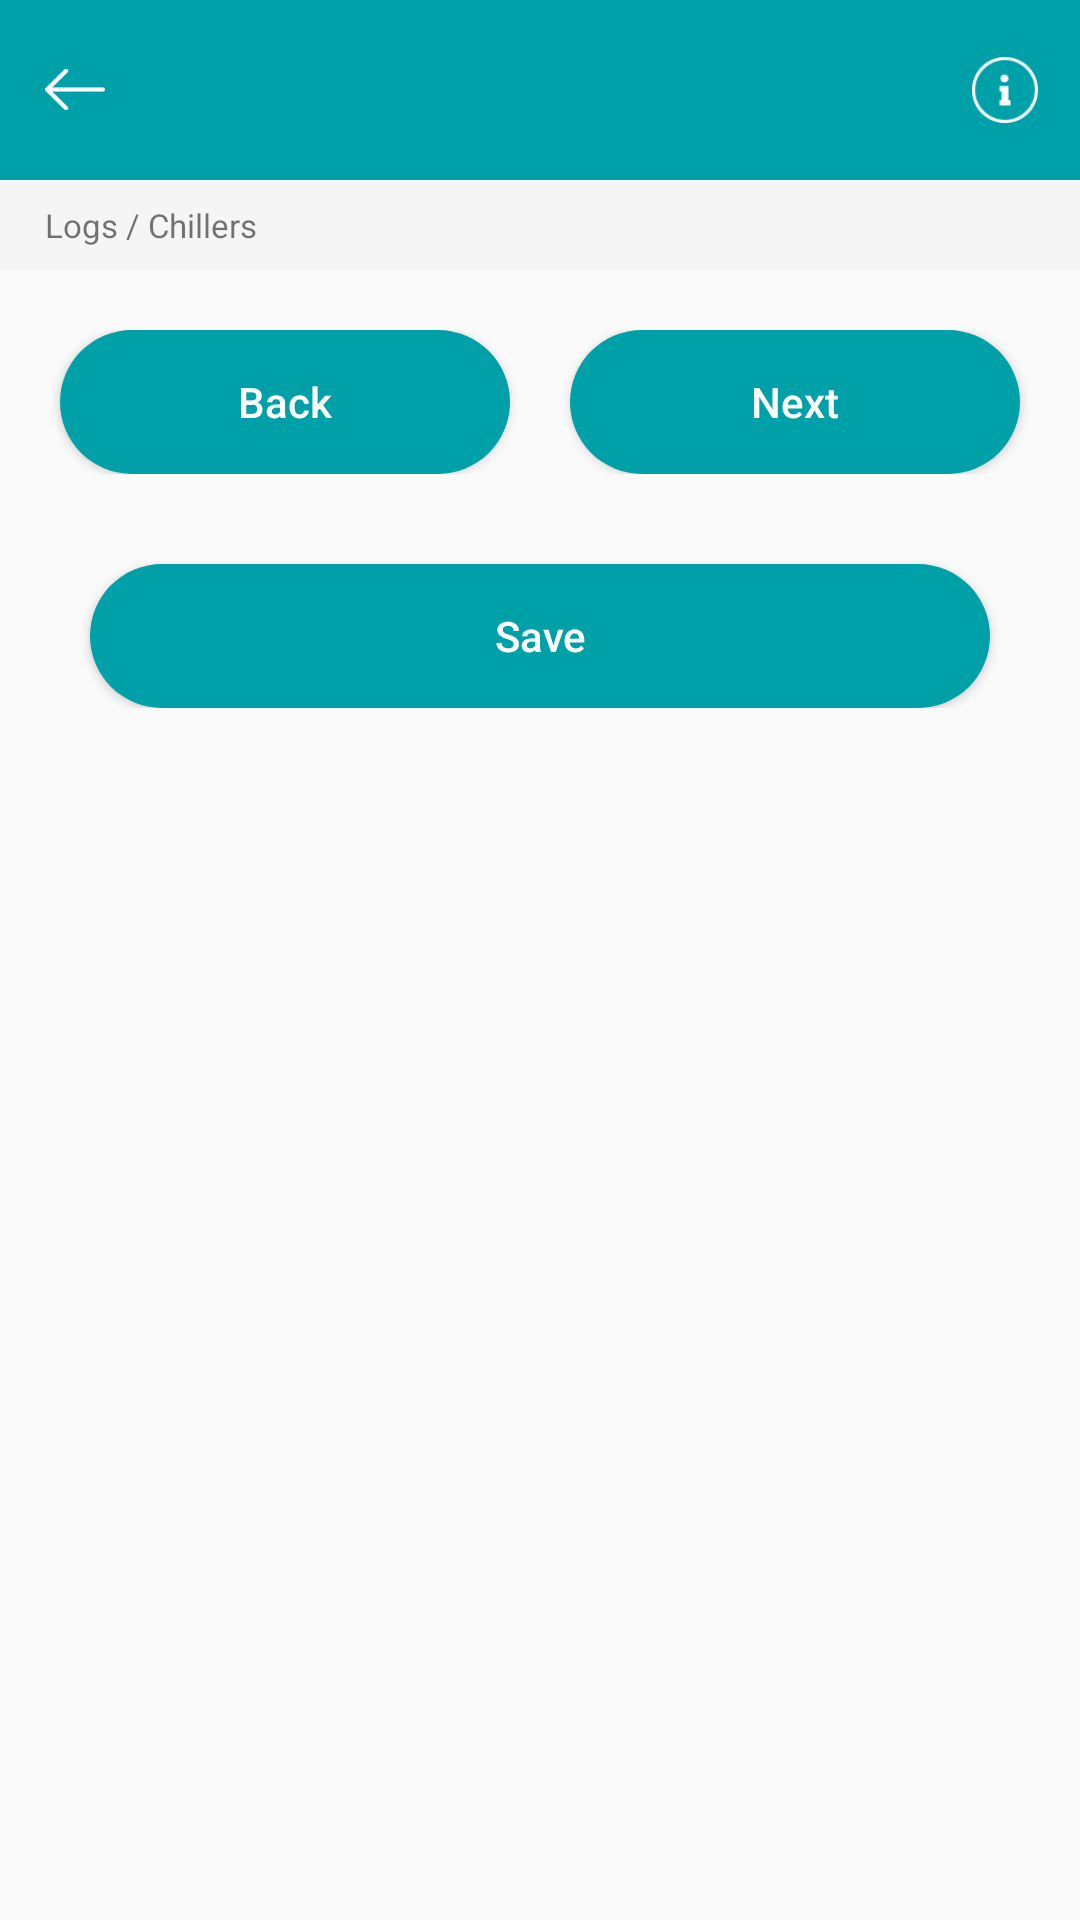

Named icons in this screenshot (1080px×1920px) and their centers, (x,y):
back: (75,89)
info: (1005,90)
